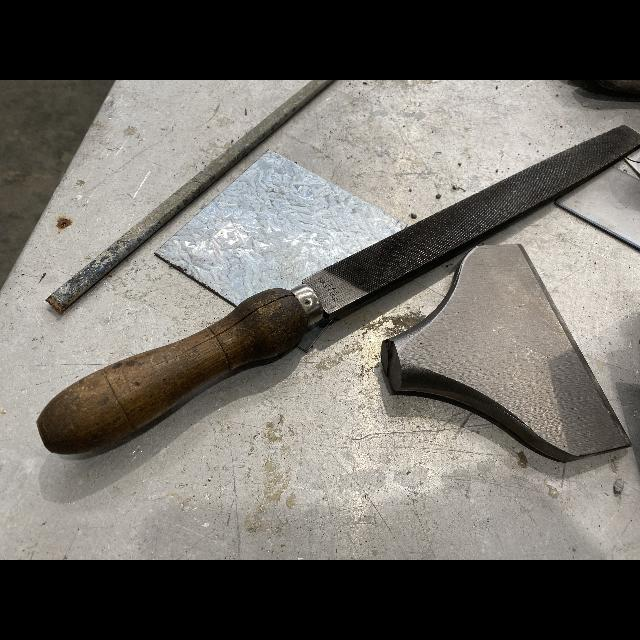Ferrous Metal: (290, 125, 640, 325), (46, 80, 332, 312), (381, 244, 630, 461)
Galvanized Steel: (155, 150, 406, 305)
